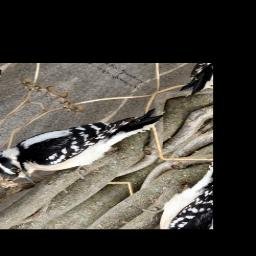Woodpecker: (0, 80, 171, 201)
